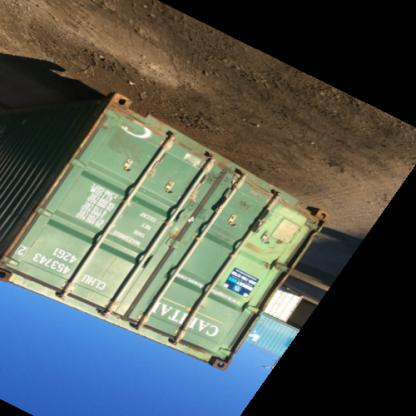Damage: (178, 162, 224, 226), (98, 132, 160, 164), (228, 200, 262, 226)
